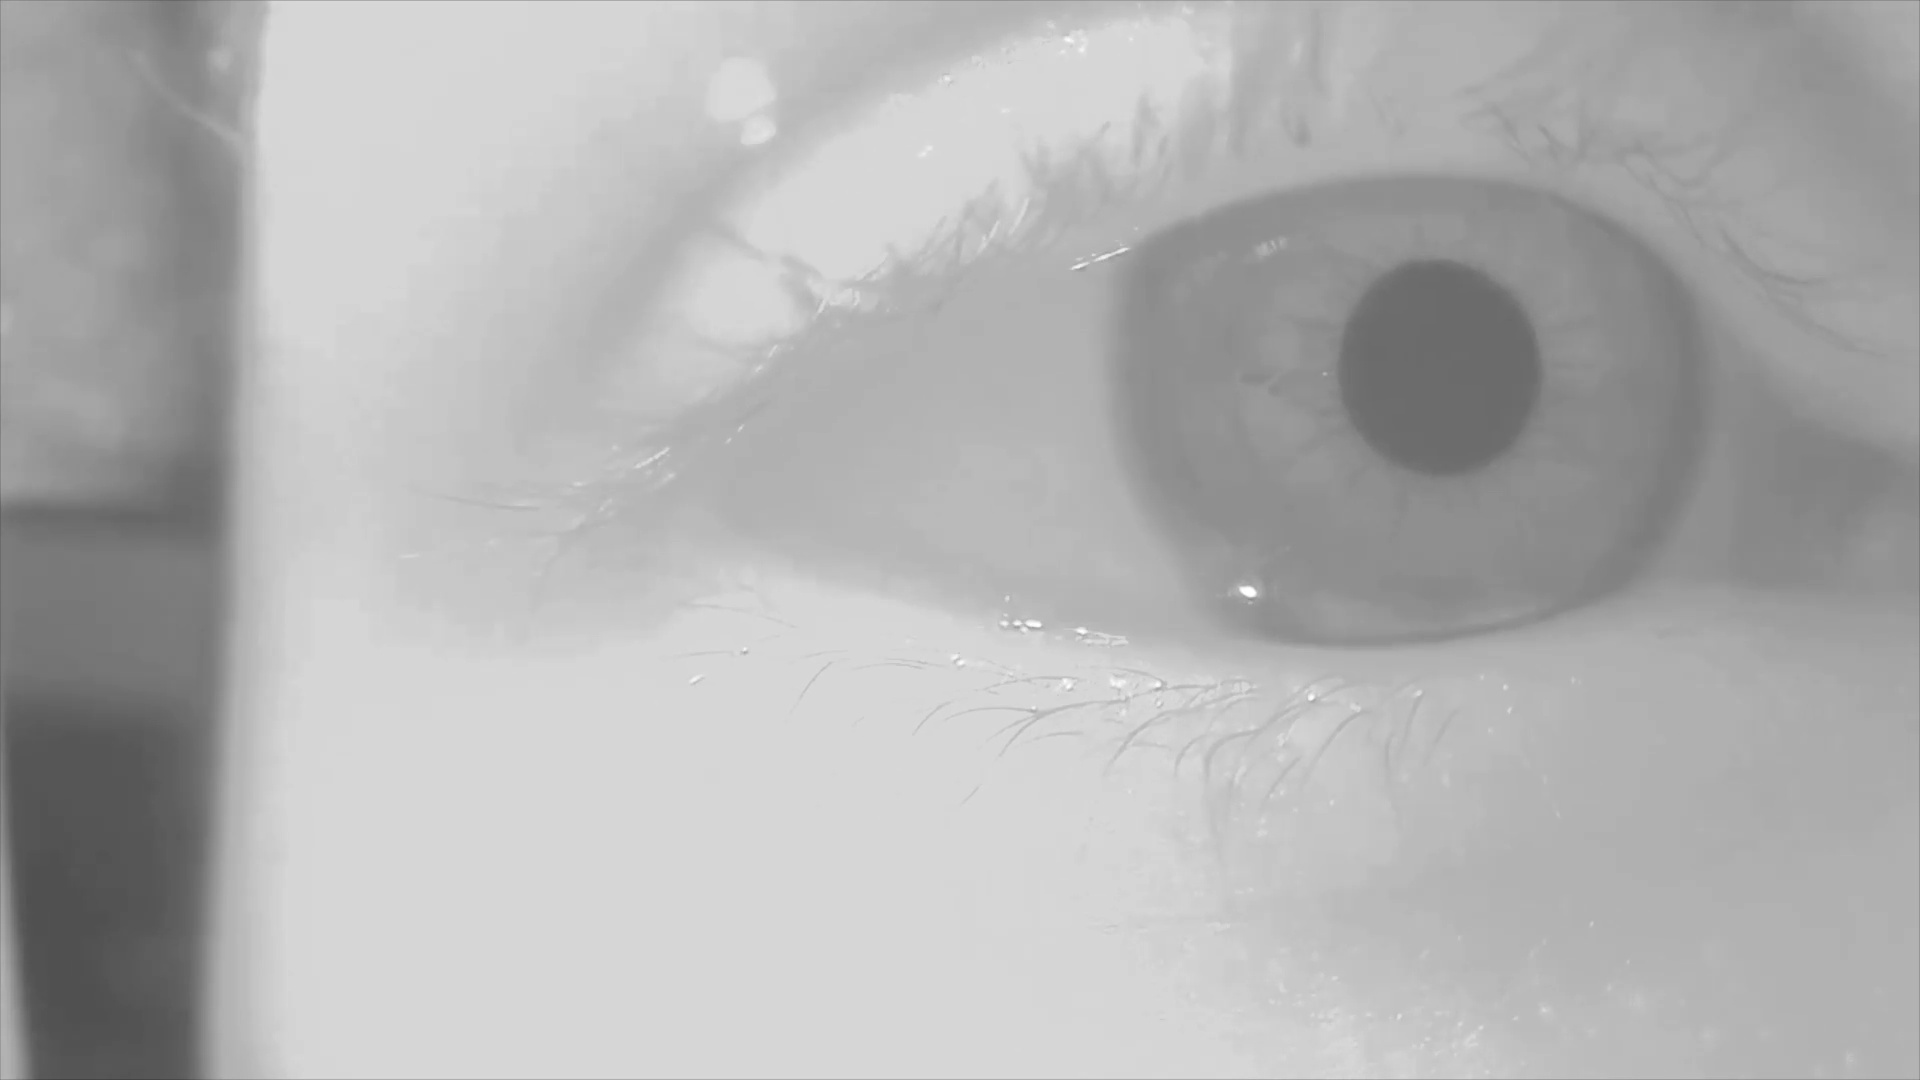pupil: (1344, 266, 1544, 477)
